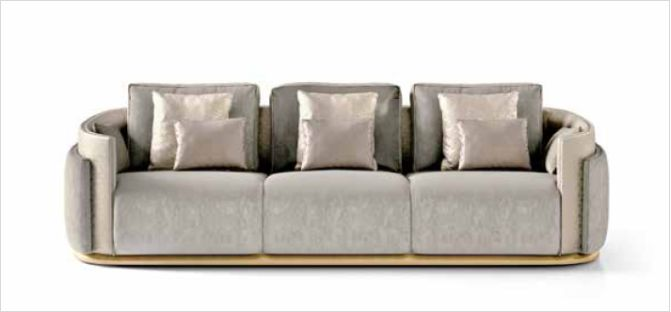3seatersofa: (65, 82, 607, 264)
backrest: (127, 83, 543, 174)
leftarmrest: (544, 108, 608, 253)
leg: (76, 253, 597, 266)
pillow: (151, 92, 249, 168), (439, 91, 530, 168), (296, 91, 377, 169)
rightarmrest: (65, 108, 128, 254)
seat: (116, 170, 560, 256)
